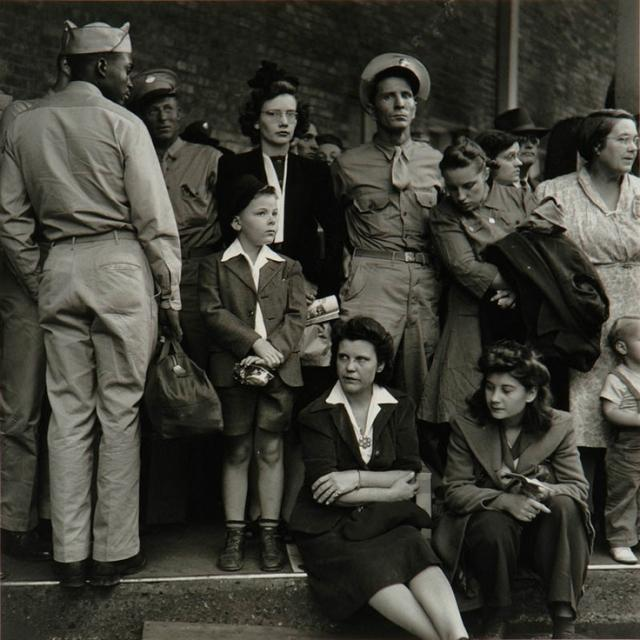body: (0, 10, 191, 592), (0, 18, 157, 565), (284, 313, 472, 640), (216, 82, 345, 540), (423, 334, 602, 639), (191, 163, 322, 575), (330, 50, 452, 399), (533, 109, 640, 460), (121, 66, 234, 389), (433, 134, 545, 426), (425, 135, 536, 424), (252, 58, 344, 170), (599, 314, 640, 565), (492, 106, 553, 194), (539, 109, 590, 181), (178, 117, 245, 168)
